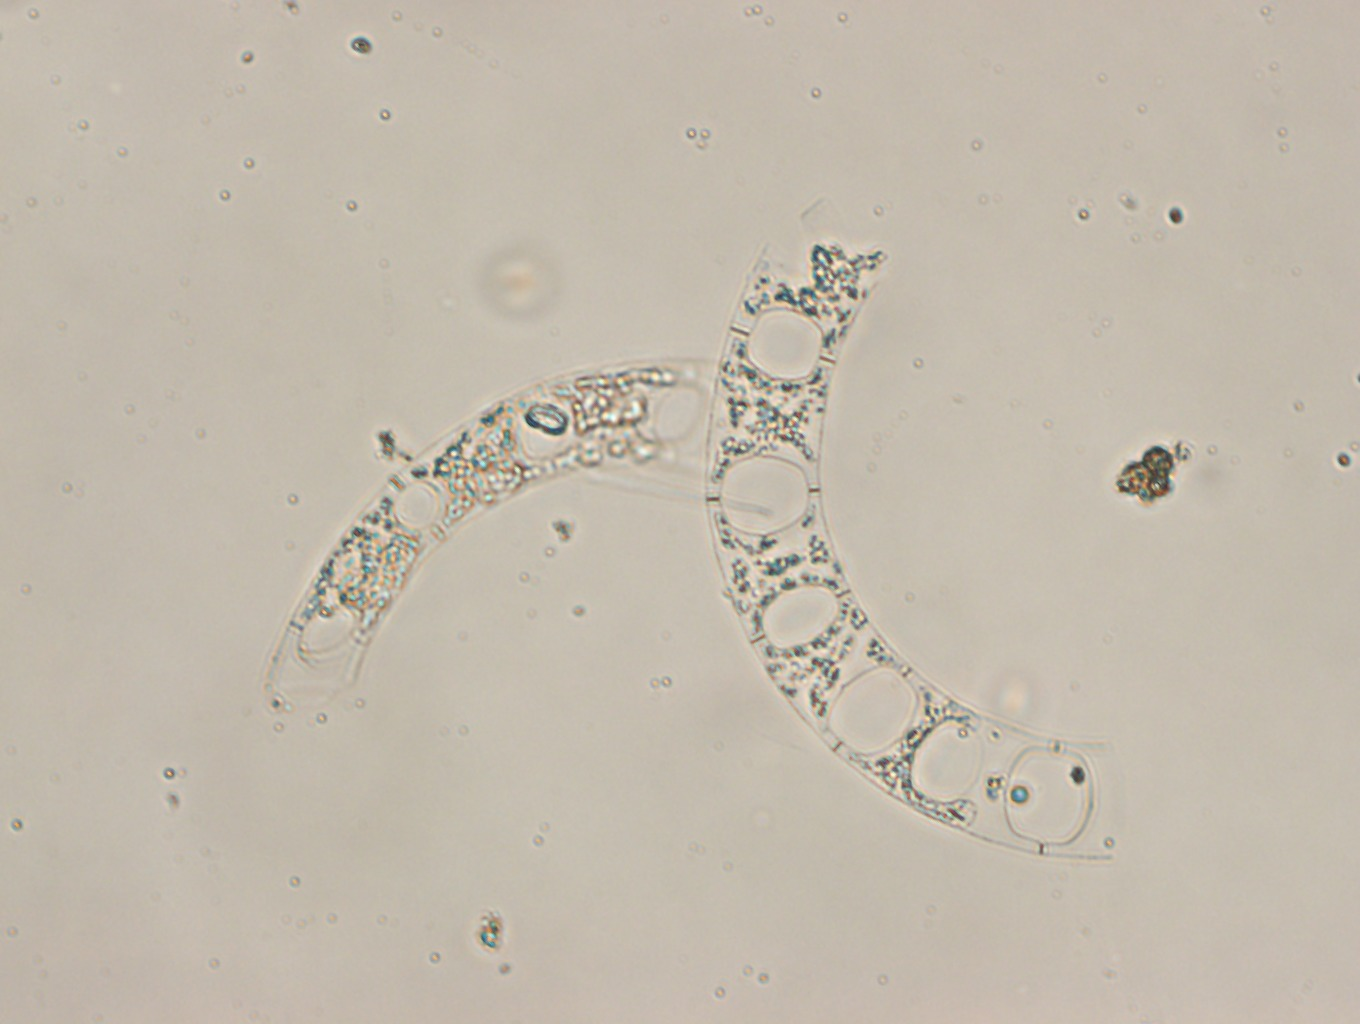eucampia: (701, 186, 1122, 861), (266, 355, 688, 694)
